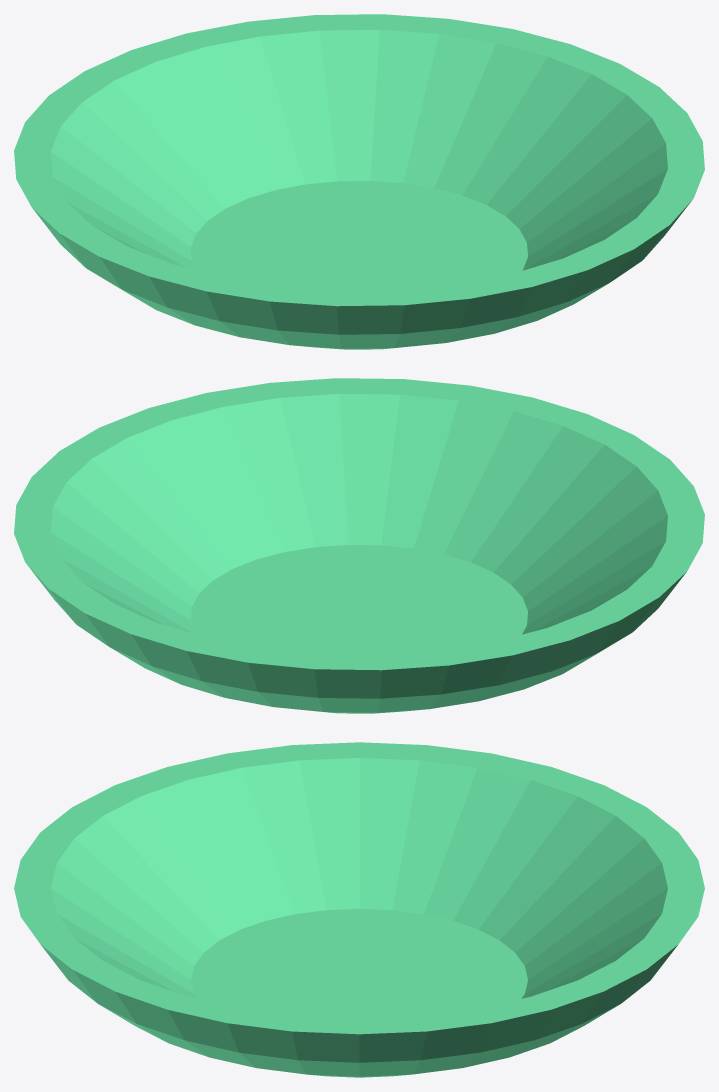
File: deep plate.fbx
3 renders of one model, top to bottom at view 1: azimuth 30°, elevation 25°; view 2: azimuth 150°, elevation 25°; view 3: azimuth 270°, elevation 25°, orthographic.
Parts seen in each view (by area): view 1: plate; view 2: plate; view 3: plate.
Boxes of the visible parts, x1,y1,x2,y2 form: plate: (14, 14, 704, 349); plate: (14, 378, 704, 713); plate: (14, 742, 704, 1077).
Bounding box in the file's own units: 219 × 41.14 × 219.
